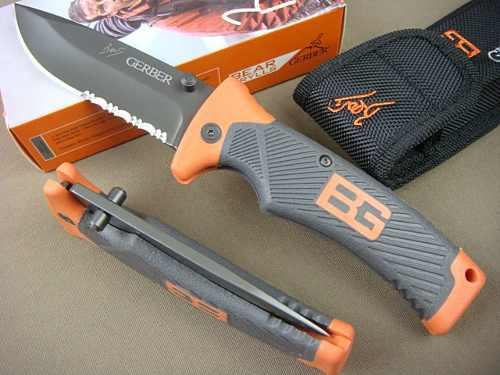knife: (13, 2, 212, 151)
